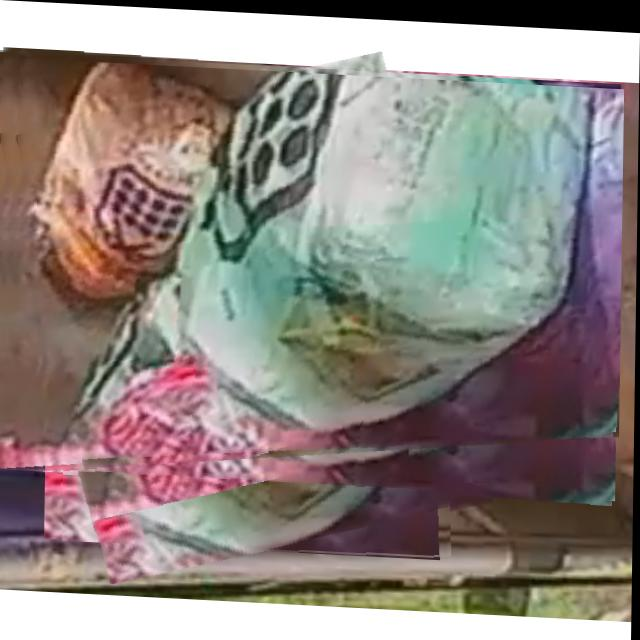general_trashbag: (65, 74, 451, 547)
other_trashbag: (0, 81, 624, 463), (417, 240, 587, 479)
